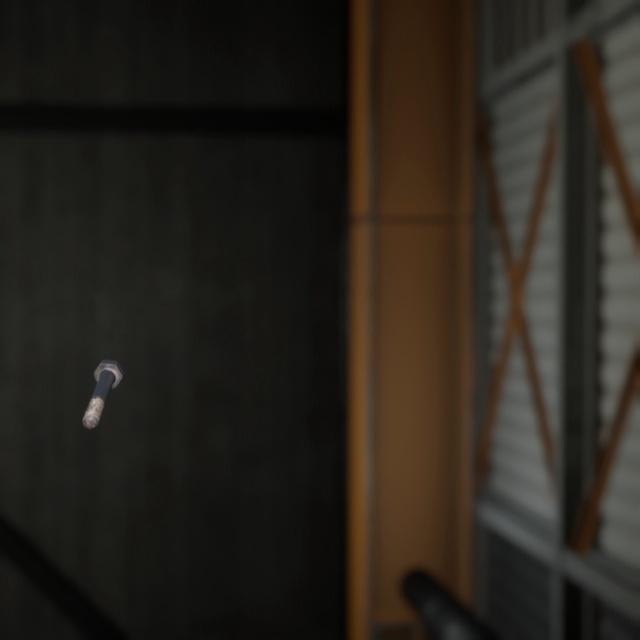bolt: (77, 336, 128, 413)
